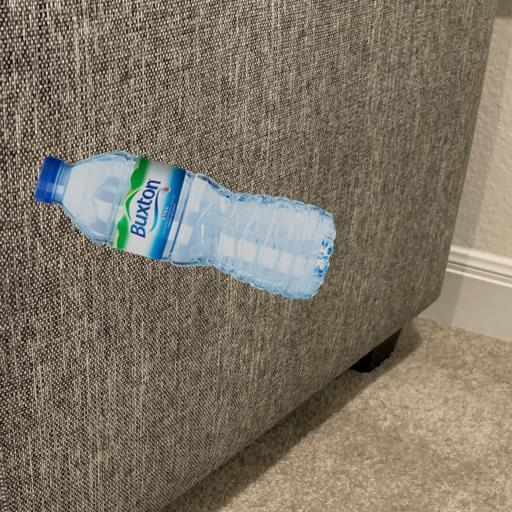bottle: (24, 150, 333, 300)
